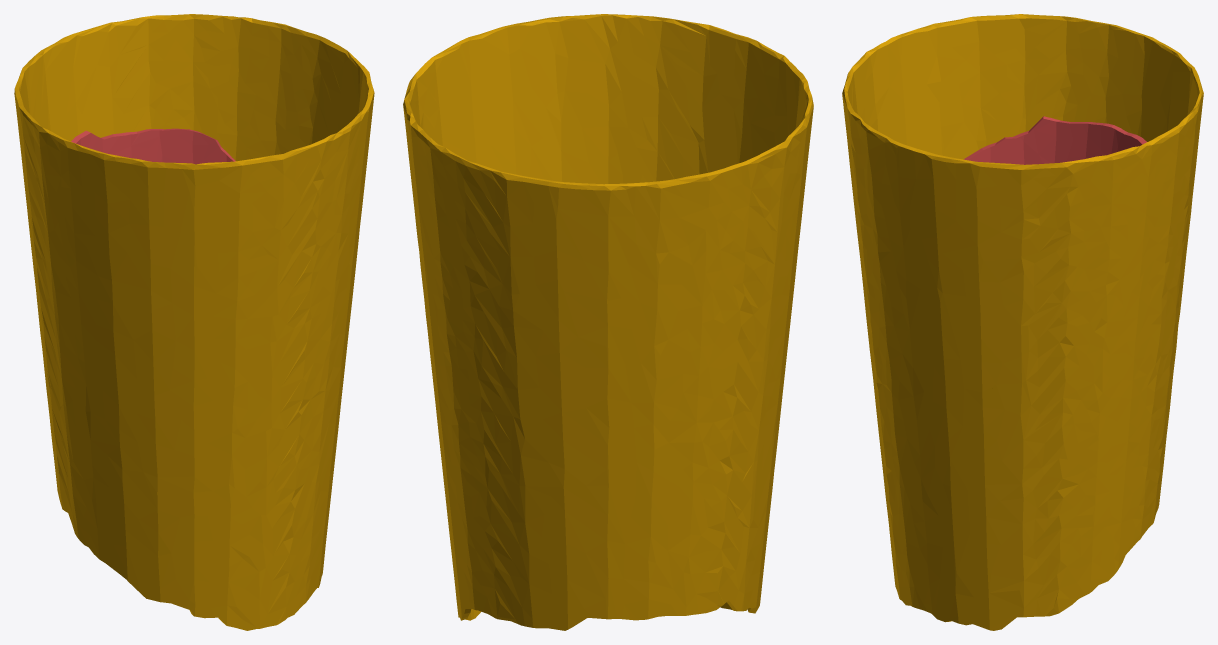
File: fractured_69_2pcs_transformed.glb
3 views of the same model, side by side, from view 1: azimuth 30°, elevation 25°; view 2: azimuth 150°, elevation 25°; view 3: azimuth 270°, elevation 25° (orthographic). The views are drawn at different scales.
Visible parts, largest first — view 1: piece_0.obj, piece_1.obj; view 2: piece_0.obj; view 3: piece_0.obj, piece_1.obj.
Part boxes in pixels (left/top/right/bottom): piece_0.obj: left=14, top=14, right=374, bottom=630; piece_1.obj: left=71, top=128, right=235, bottom=164; piece_0.obj: left=403, top=14, right=813, bottom=630; piece_0.obj: left=842, top=14, right=1203, bottom=630; piece_1.obj: left=963, top=116, right=1146, bottom=164.
Bounding box in the file's own units: 0.6116 × 0.9309 × 0.6116.
